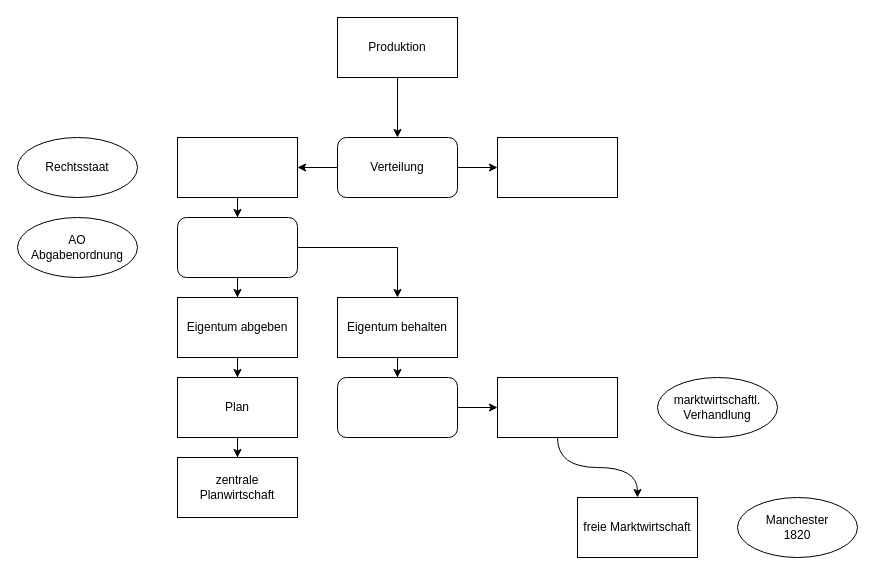
The diagram is 875 pixels wide and 575 high, and some of its shapes have lost their labels. Here are the shapes that lost their labels. From the top down, the centre of each, then its label:
At (237,167): "ohne Gewalt".
At (557,167): "mit Gewalt".
At (237,247): "Regeln".
At (397,407): "viele Pläne".
At (557,407): "Tauschwirtschaft".
